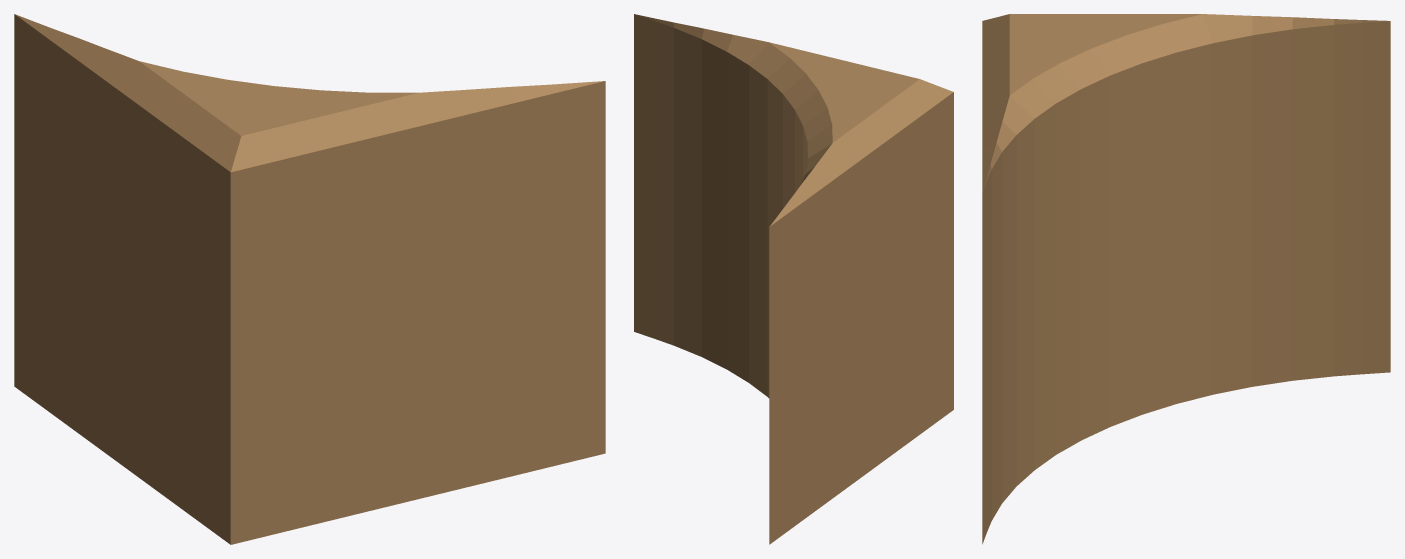
Rendered from wallCornerRoundInverted.fbx.
3 renders of one model, left to right at view 1: azimuth 30°, elevation 25°; view 2: azimuth 150°, elevation 25°; view 3: azimuth 270°, elevation 25°, orthographic. The views are drawn at different scales.
Parts seen in each view (by area): view 1: wallCornerRoundInverted; view 2: wallCornerRoundInverted; view 3: wallCornerRoundInverted.
Part boxes in pixels (bbox=[...]): wallCornerRoundInverted: bbox=[14, 14, 605, 544]; wallCornerRoundInverted: bbox=[634, 14, 953, 544]; wallCornerRoundInverted: bbox=[982, 14, 1390, 544].
Size of the model in its own units: 100 by 100 by 100.
